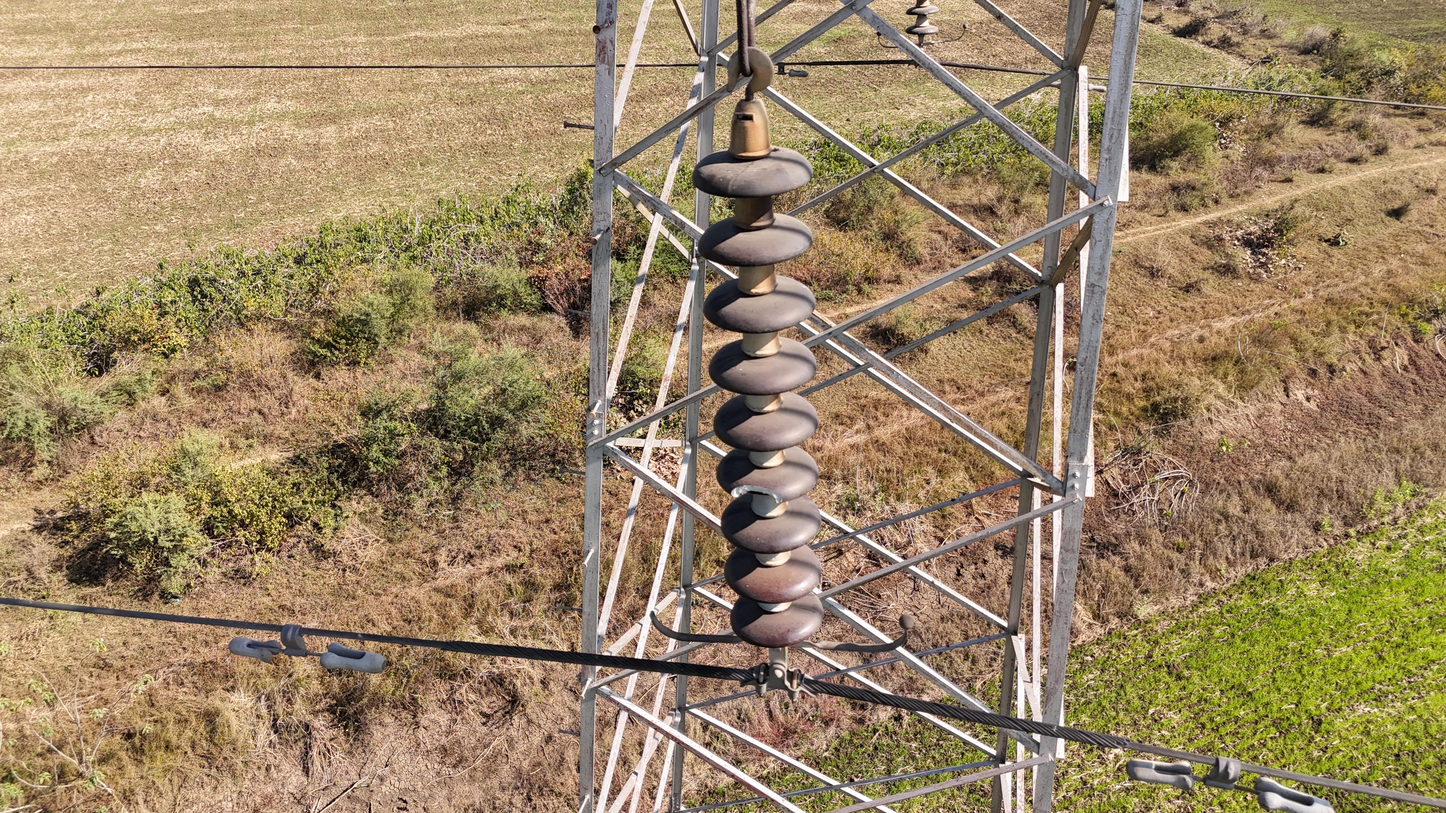broken_insulator: (693, 456, 850, 514)
